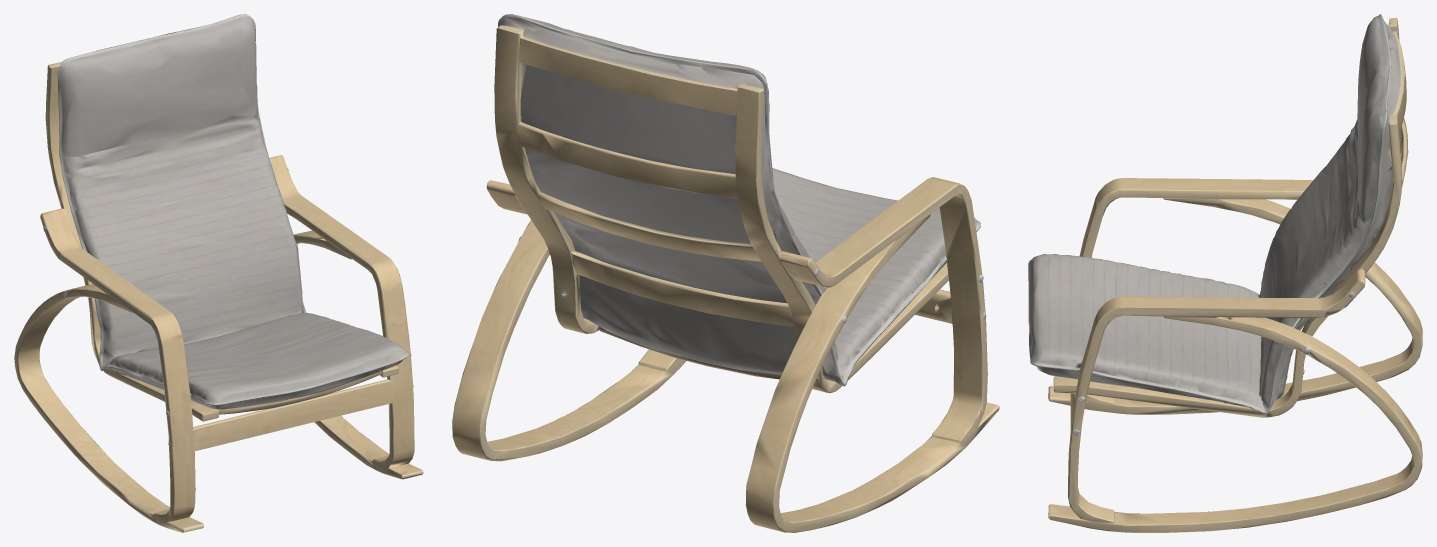
3 views of the same model, side by side, from view 1: azimuth 30°, elevation 25°; view 2: azimuth 150°, elevation 25°; view 3: azimuth 270°, elevation 25° (orthographic). The views are drawn at different scales.
Parts seen in each view (by area): view 1: ProcessedMeshNode; view 2: ProcessedMeshNode; view 3: ProcessedMeshNode.
Boxes of the visible parts, bbox=[...] form: ProcessedMeshNode: bbox=[14, 14, 423, 532]; ProcessedMeshNode: bbox=[452, 14, 999, 532]; ProcessedMeshNode: bbox=[1028, 14, 1422, 532].
Bounding box in the file's own units: 0.6807 × 0.984 × 0.8632.
2 materials, 2 textured.
